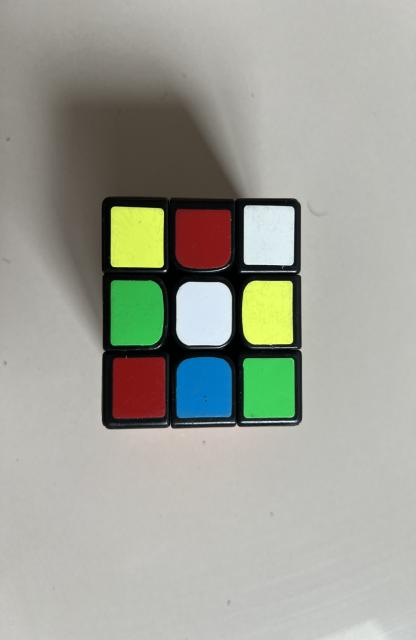Blue: (177, 356, 232, 419)
Green: (110, 280, 165, 346), (243, 358, 295, 419)
Red: (176, 209, 231, 269), (113, 358, 166, 419)
White: (176, 281, 232, 346), (244, 205, 295, 265)
Yellow: (110, 206, 165, 268), (242, 281, 294, 345)
